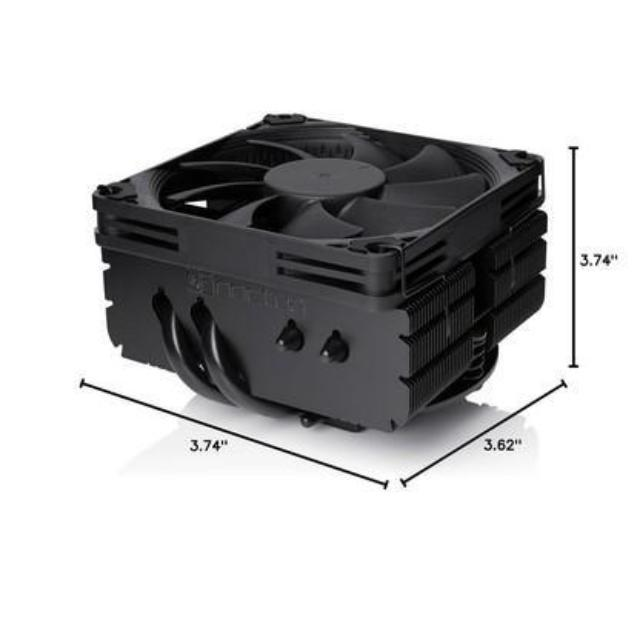CPU_Fan: (93, 111, 544, 434)
